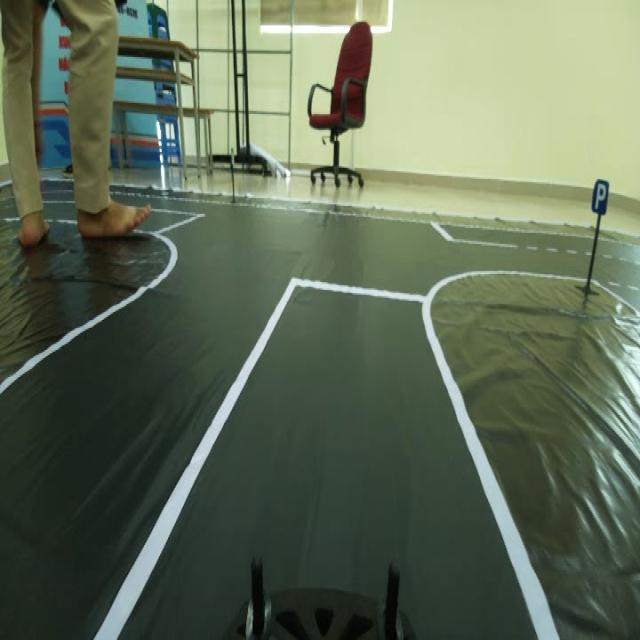parking: (588, 167, 614, 231)
